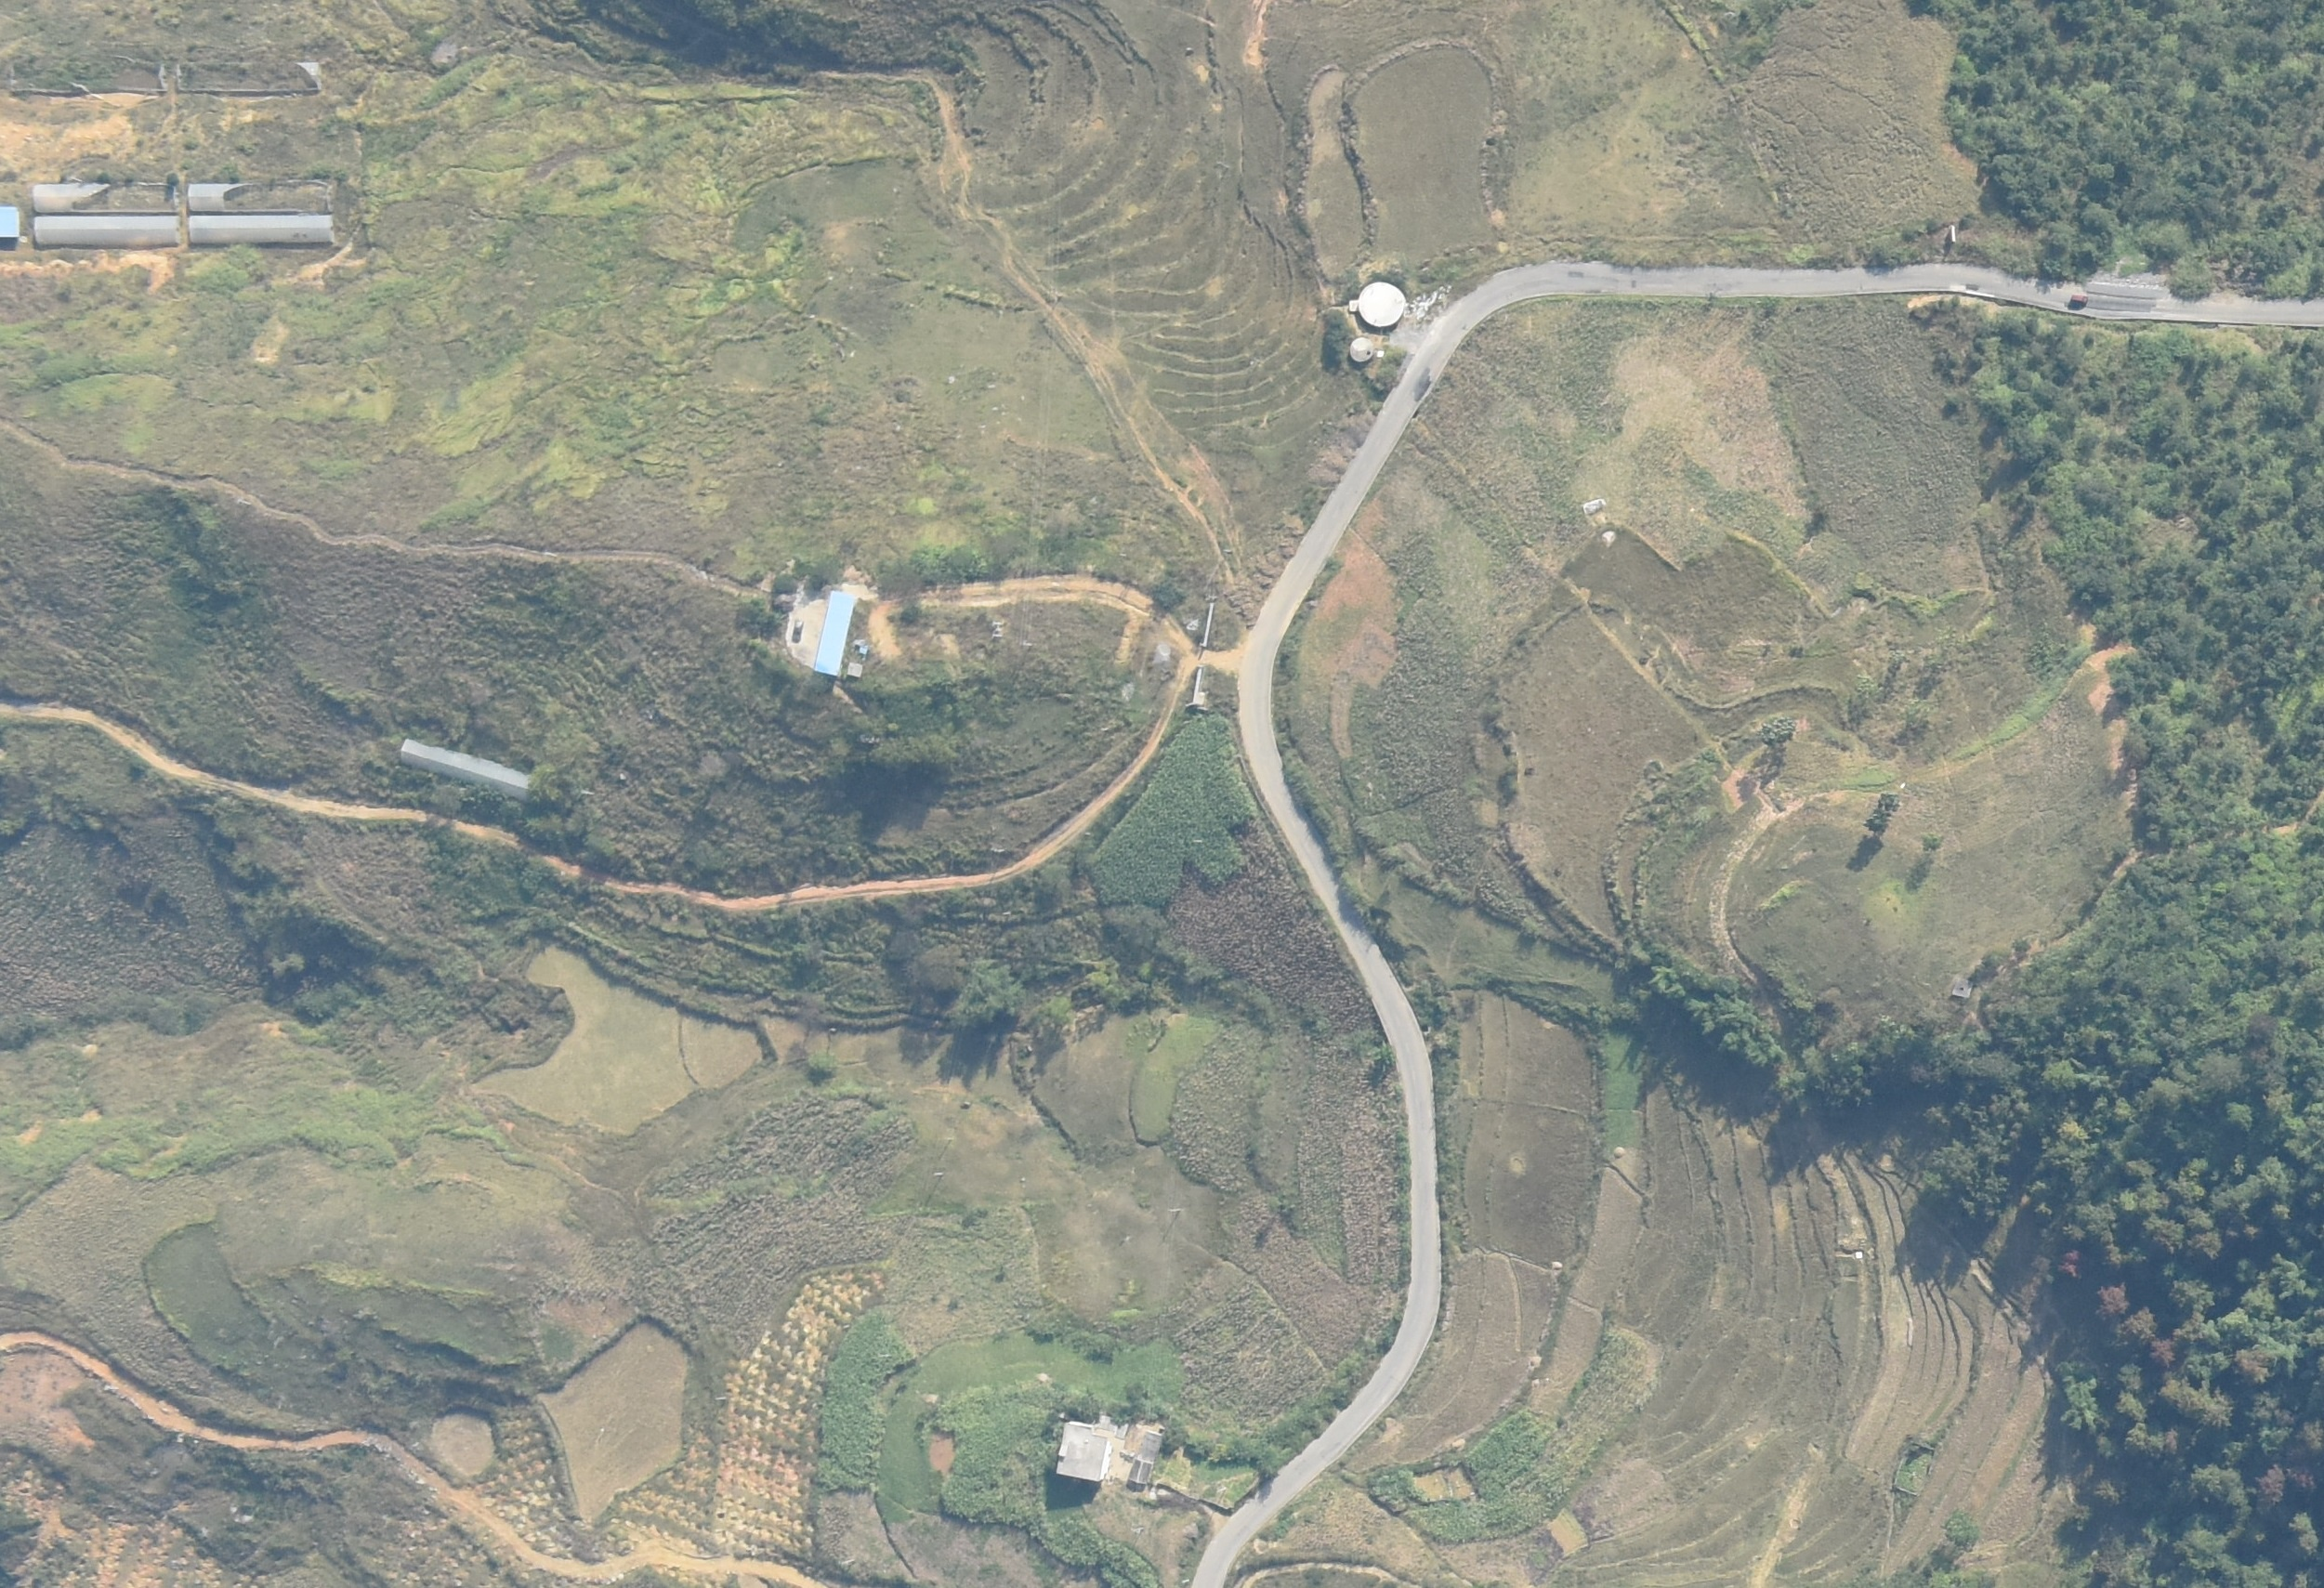building: (403, 740, 530, 798), (32, 219, 182, 247), (1053, 1417, 1111, 1482), (187, 219, 334, 244), (30, 182, 102, 210), (1128, 1425, 1160, 1487), (189, 182, 224, 210), (846, 661, 862, 677)
cable-tower: (1166, 1205, 1187, 1215), (1019, 638, 1035, 650), (874, 1351, 894, 1360), (929, 1168, 947, 1176)
prefabricated-house: (814, 590, 855, 677), (2, 207, 23, 238)
vehicle: (789, 620, 804, 643)
well: (1358, 279, 1406, 329), (1349, 337, 1374, 364)
